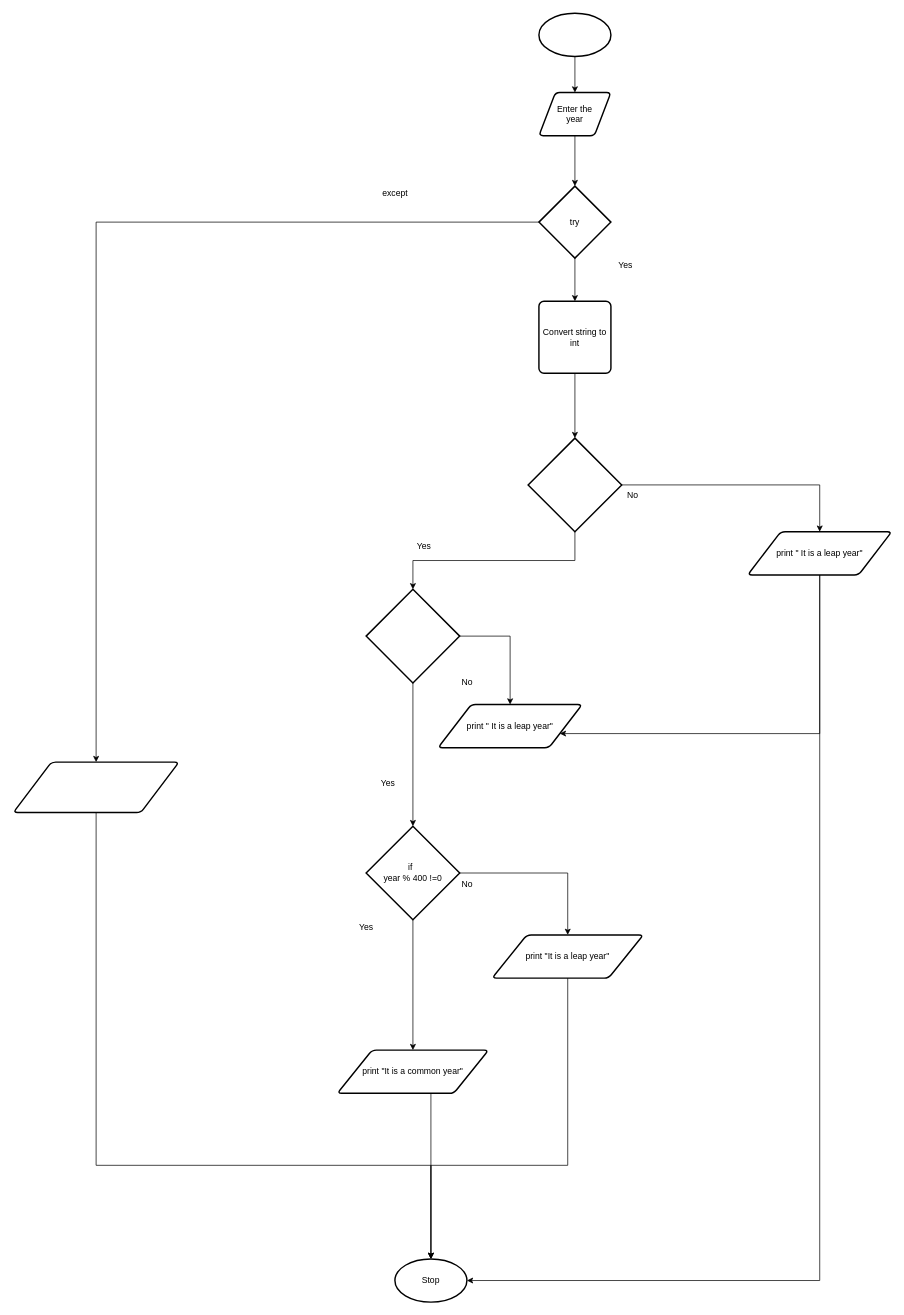
Image size: 904x1315. Some labels were removed from this diagram. Each missing label, with the centre of its shape:
if year % 100 != 0: point (412, 635)
if year % 4 !=0: point (574, 484)
print " sorry this is not a number: point (95, 787)
Start: point (574, 34)
